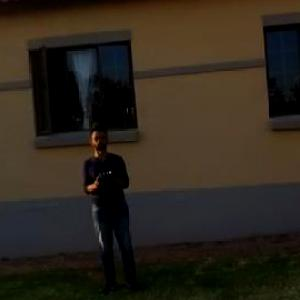follow: (81, 119, 147, 299)
